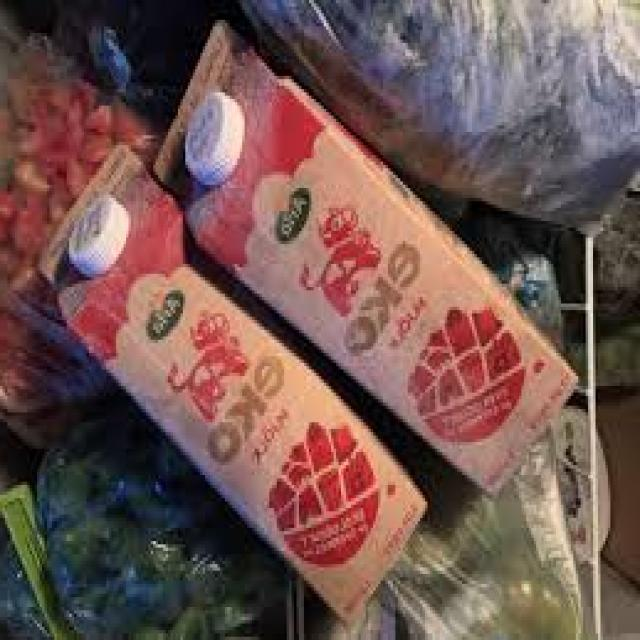cardboard: (164, 33, 555, 484), (41, 152, 415, 620)
